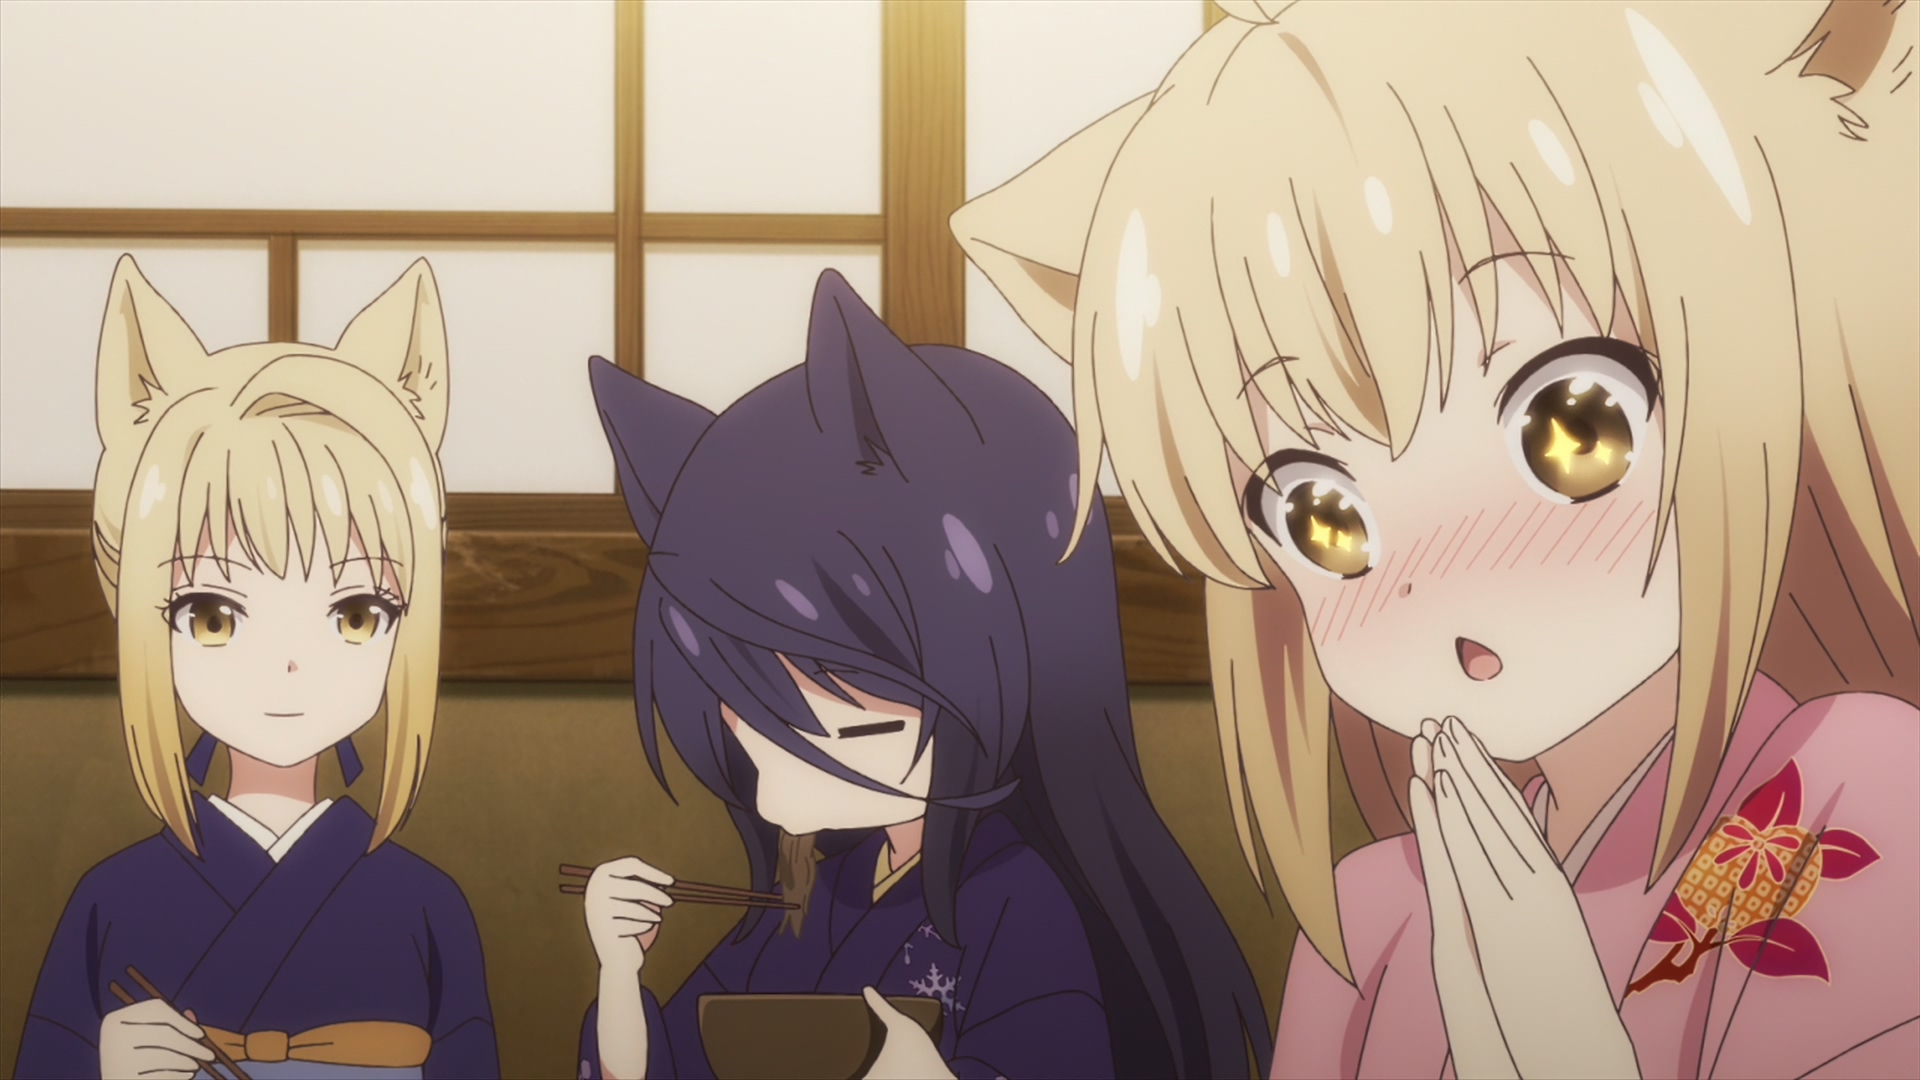柚: (949, 1, 1920, 1080)
桐: (13, 252, 498, 1080)
皋: (576, 266, 1275, 1080)
